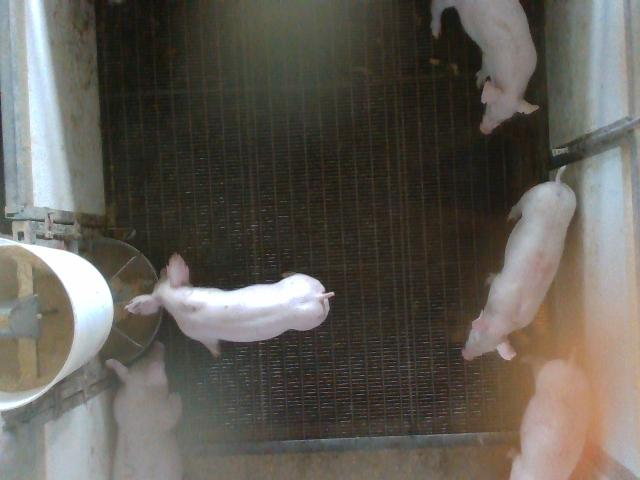pig-4: (462, 175, 575, 360)
